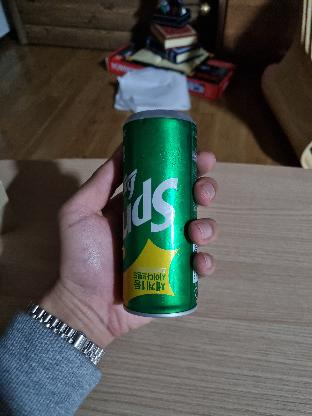Can: (124, 109, 202, 317)
